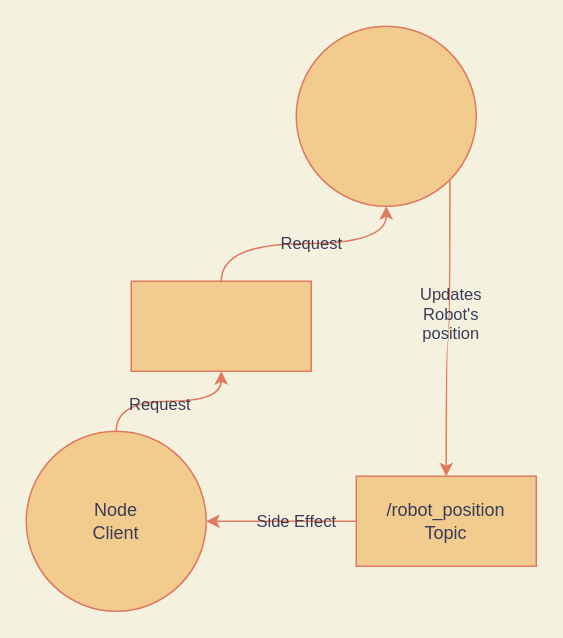
Some shapes in this 563 by 638 pixel diagram are drawn without their labels. The box of each missing label's shape, as (x1, y1, x2, y2) in pixels:
/move_command Topic: (130, 280, 311, 371)
Node (Can move the robot to a given position): (295, 25, 476, 206)
